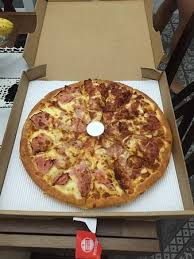pizza: (31, 81, 170, 205)
